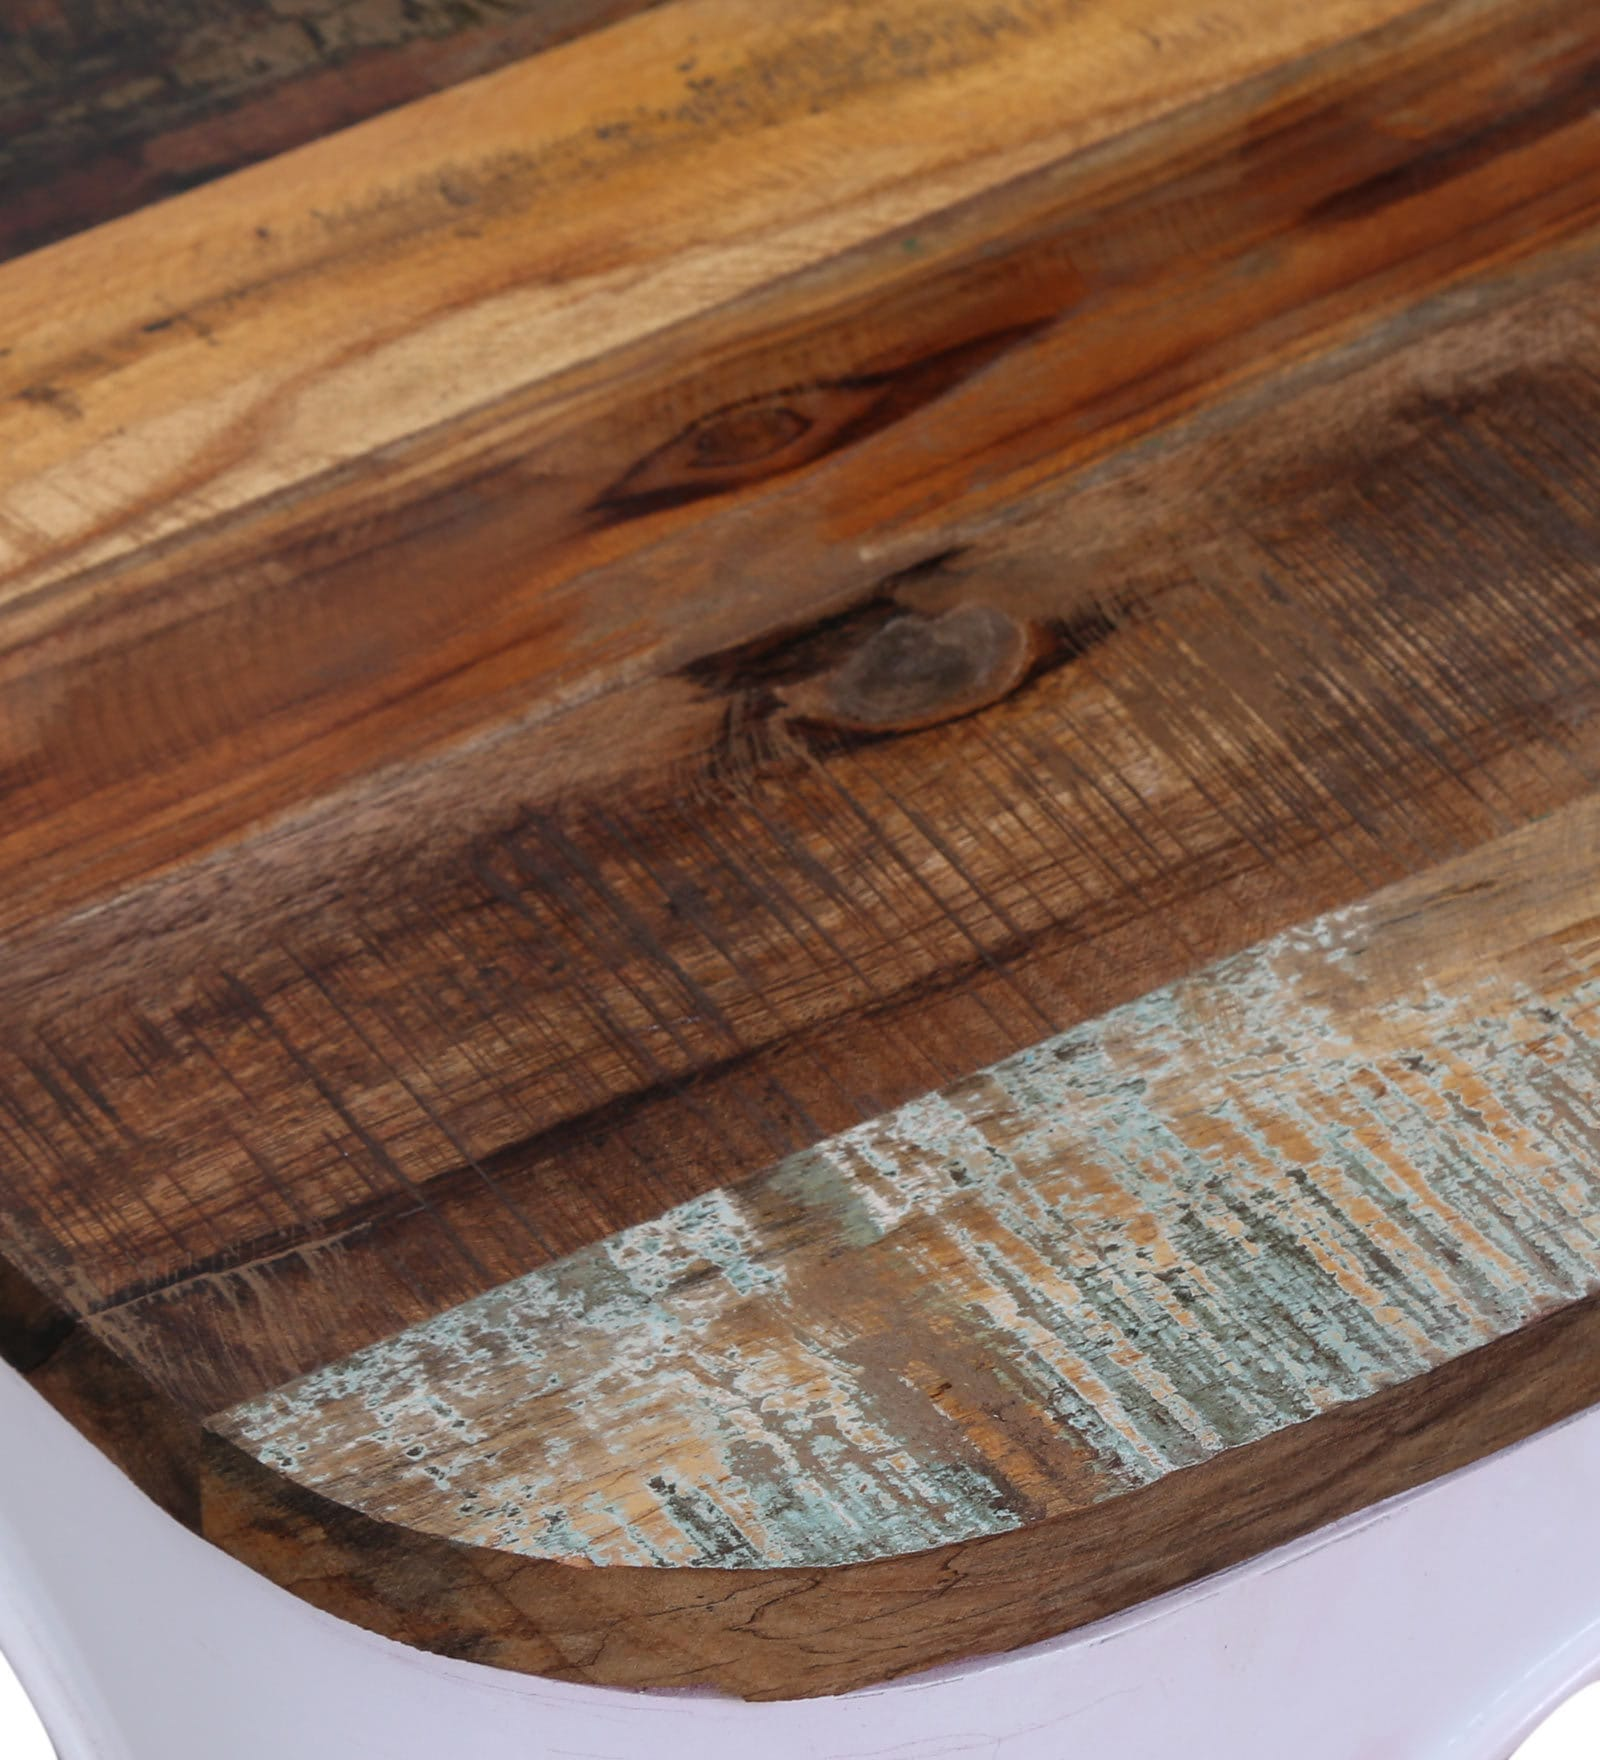Ekati Metal Chair in White Color with Wooden Seat by Bohemiana: (9, 8, 1600, 1743)
